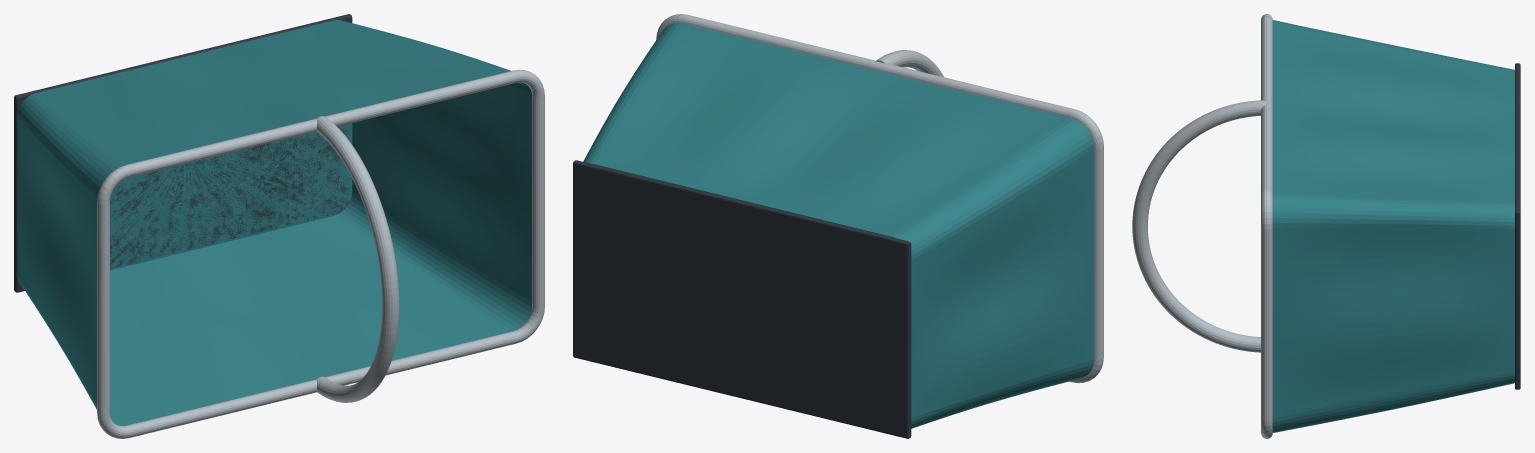
3 views of the same model, side by side, from view 1: azimuth 30°, elevation 25°; view 2: azimuth 150°, elevation 25°; view 3: azimuth 270°, elevation 25° (orthographic). The views are drawn at different scales.
Parts seen in each view (by area): view 1: geometry_0; view 2: geometry_0; view 3: geometry_0.
Boxes of the visible parts, left/top/right/bottom form: geometry_0: left=14, top=14, right=544, bottom=438; geometry_0: left=573, top=14, right=1103, bottom=438; geometry_0: left=1132, top=14, right=1520, bottom=438.
Bounding box in the file's own units: 0.48 × 0.284 × 0.398.
1 material, 1 textured.
